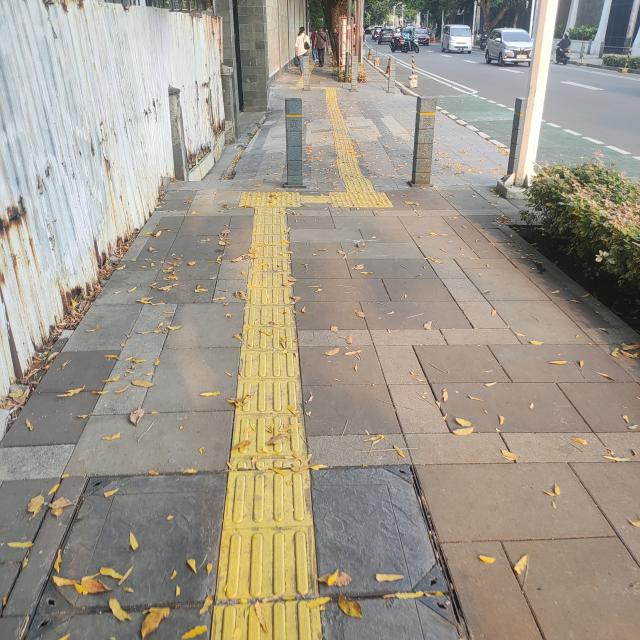lurus: (223, 210, 308, 640), (317, 96, 378, 186)
